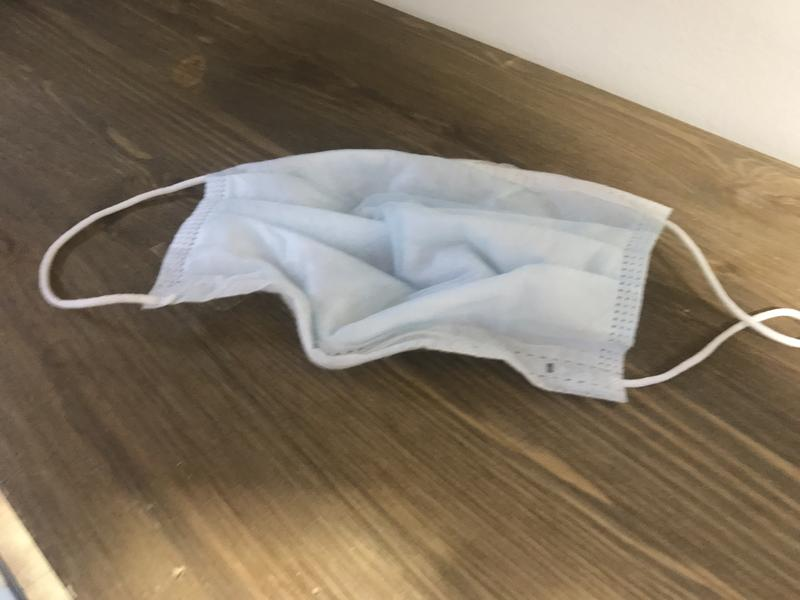medical_mask: (40, 150, 800, 402)
